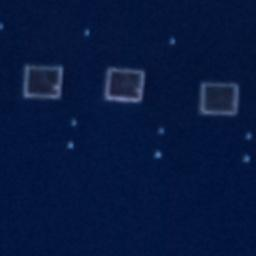square_cover: (97, 63, 146, 106), (195, 78, 241, 121), (19, 61, 68, 101)
